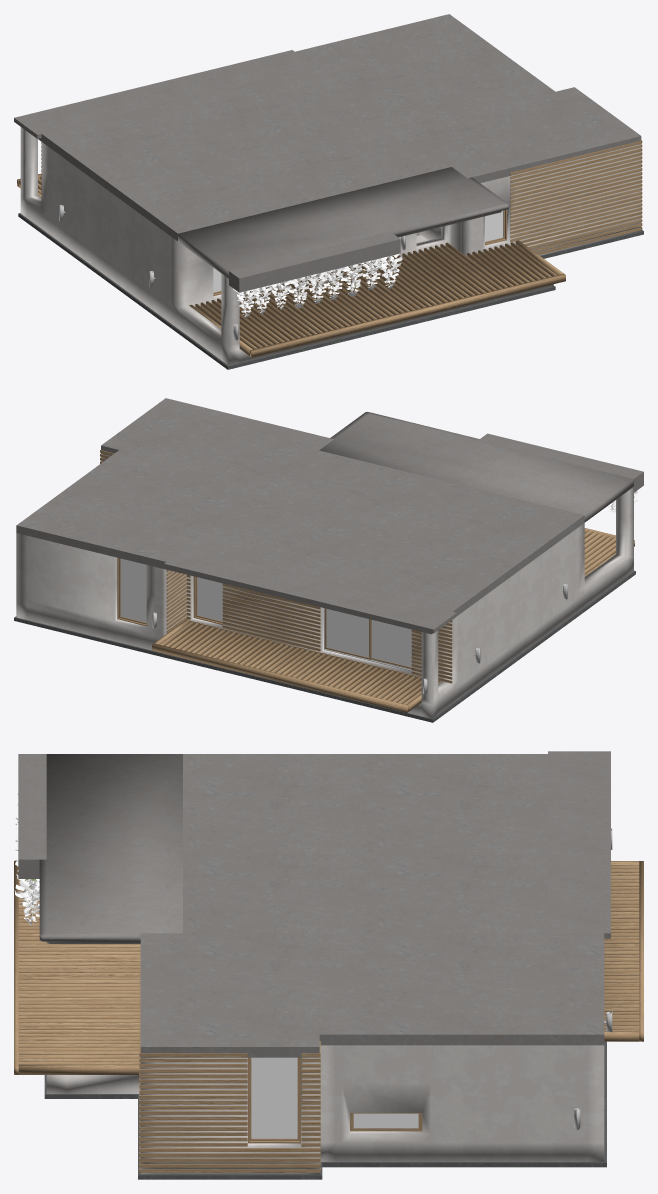
File: house.gltf
The picture shows the model from 3 angles, top to bottom: view 1: azimuth 30°, elevation 25°; view 2: azimuth 150°, elevation 25°; view 3: azimuth 270°, elevation 25°; orthographic projection. The views are drawn at different scales.
Parts seen in each view (by area): view 1: Foundation, Walls, Front Concrete Slab, Wooden Shade Boards 02, Wooden facade, Concrete back slab, Flower Concrete Pot, Wooden Shade Frame 02, Roof, Window.R.007; view 2: Foundation, Walls, Front Concrete Slab, Concrete back slab, Wooden Shade Boards, Wooden Facade02, Roof, Wooden Shade Frame, Window.L, Flower Concrete Pot, Window.R.001, Window.R (+2 smaller); view 3: Foundation, Walls, Front Concrete Slab, Wooden Shade Boards 02, Wooden facade, Concrete back slab, Wooden Shade Boards, Window.R.003, Roof, Flower Concrete Pot, Wooden Shade Frame 02, Wooden Shade Frame (+2 smaller).
Boxes of the visible parts, left/top/right/bottom form: Foundation: left=41, top=14, right=641, bottom=241; Walls: left=20, top=127, right=641, bottom=365; Front Concrete Slab: left=178, top=167, right=508, bottom=278; Wooden Shade Boards 02: left=195, top=242, right=556, bottom=349; Wooden facade: left=510, top=140, right=642, bottom=254; Concrete back slab: left=14, top=50, right=315, bottom=141; Flower Concrete Pot: left=229, top=231, right=400, bottom=292; Wooden Shade Frame 02: left=189, top=240, right=565, bottom=357; Roof: left=18, top=213, right=643, bottom=369; Window.R.007: left=485, top=210, right=504, bottom=243; Foundation: left=16, top=398, right=584, bottom=615; Walls: left=16, top=453, right=633, bottom=718; Front Concrete Slab: left=319, top=412, right=633, bottom=522; Concrete back slab: left=164, top=547, right=456, bottom=634; Wooden Shade Boards: left=159, top=621, right=421, bottom=704; Wooden Facade02: left=166, top=570, right=452, bottom=683; Roof: left=14, top=570, right=635, bottom=722; Wooden Shade Frame: left=152, top=619, right=441, bottom=712; Window.L: left=325, top=608, right=370, bottom=659; Flower Concrete Pot: left=477, top=433, right=643, bottom=492; Window.R.001: left=119, top=558, right=146, bottom=624; Window.R: left=371, top=619, right=411, bottom=668; Foundation: left=140, top=754, right=604, bottom=1057; Walls: left=46, top=1045, right=604, bottom=1174; Front Concrete Slab: left=39, top=754, right=182, bottom=943; Wooden Shade Boards 02: left=18, top=880, right=140, bottom=1064; Wooden facade: left=139, top=967, right=320, bottom=1172; Concrete back slab: left=548, top=751, right=610, bottom=938; Wooden Shade Boards: left=604, top=865, right=639, bottom=1031; Window.R.003: left=249, top=1057, right=299, bottom=1140; Roof: left=44, top=1041, right=606, bottom=1179; Flower Concrete Pot: left=18, top=754, right=46, bottom=878; Wooden Shade Frame 02: left=14, top=861, right=140, bottom=1074; Wooden Shade Frame: left=604, top=861, right=643, bottom=1041.
Size of the model in its own units: 15.01 by 3.1 by 13.44.
